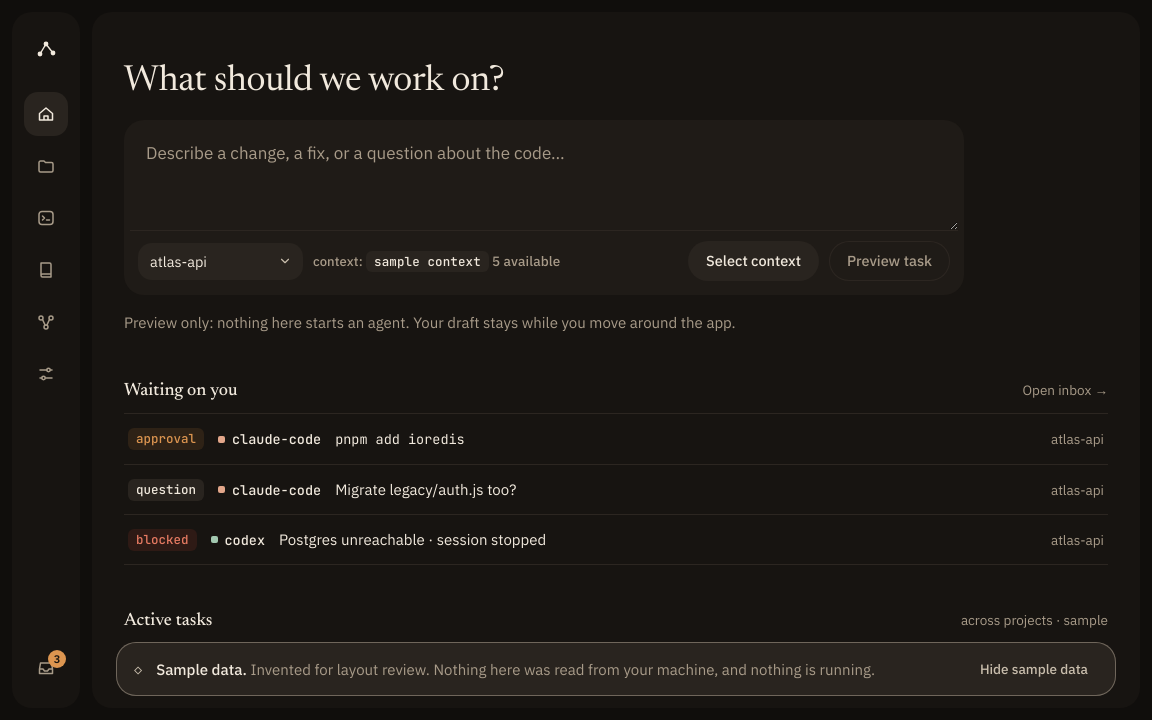
Scenario: Sessions list › marks one row selected and drops the comparison when filters hide it
Click the link named "Sessions" at [46, 218], box [36,208,56,228]
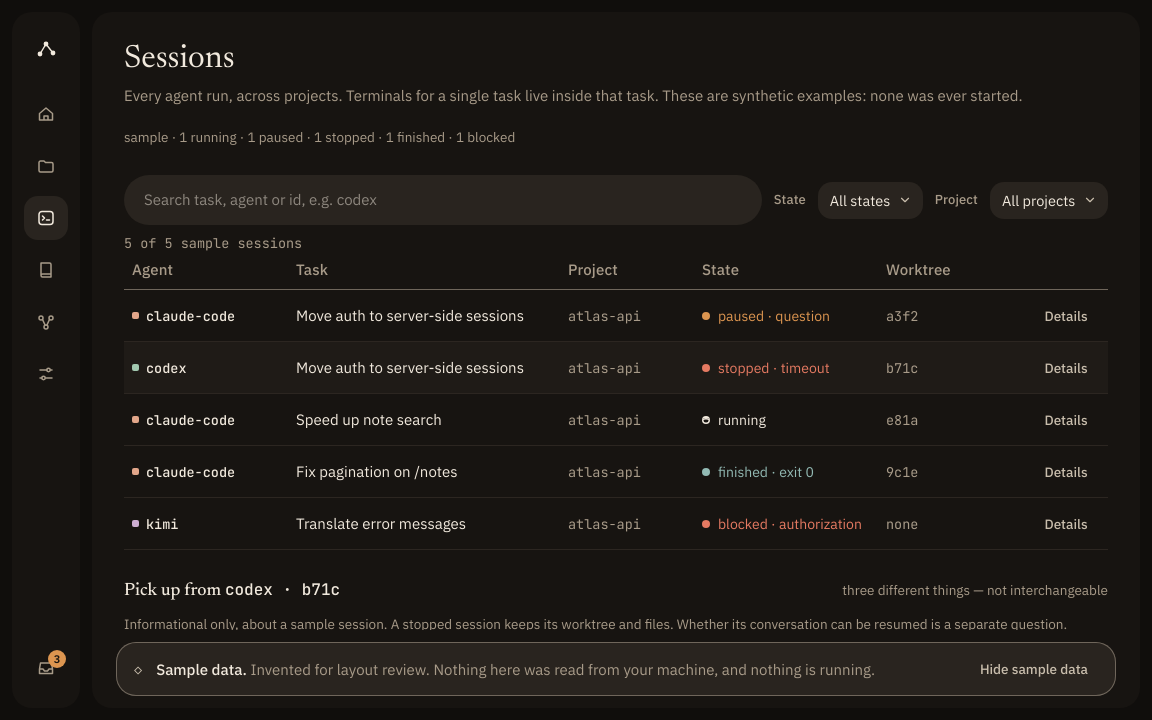
Expected: the heading "Sessions" is shown, [124,43,235,75]
Expected: the heading "Pick up from codex · b71c" is shown, [124,578,340,603]
Click the button "claude-code Speed up note search atlas-api running e81a" at [574, 420], box [124,394,1024,445]
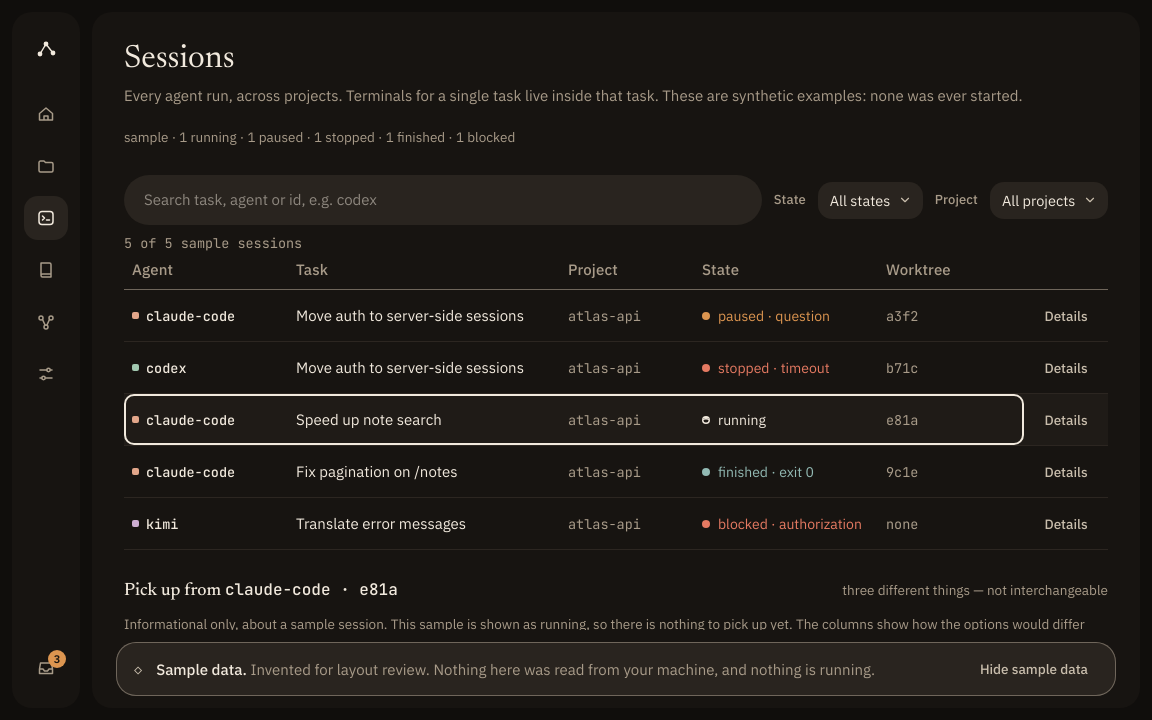
Expected: the heading "Pick up from claude-code · e81a" is shown, [124,578,398,603]
Select "Paused" in the dropdown labelled "State" at [870, 200], box [818,182,923,218]
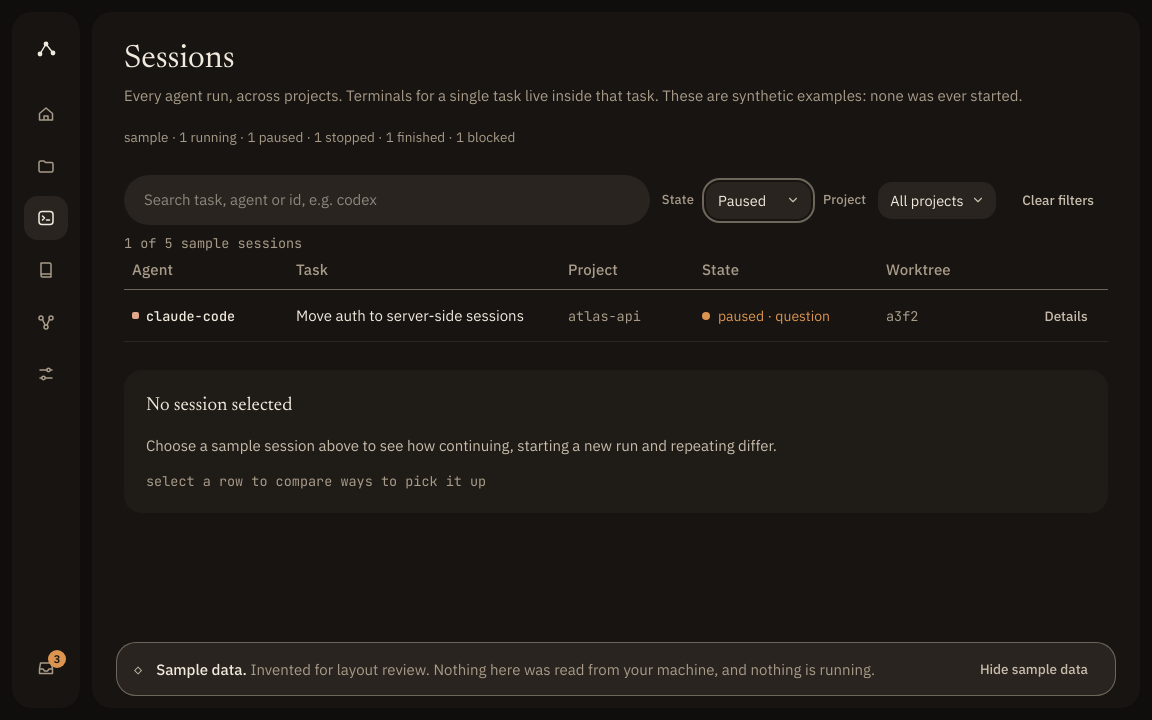
Expected: the heading "No session selected" is shown, [146,396,292,415]
